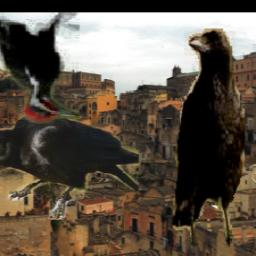Crow: (174, 29, 246, 247), (0, 111, 139, 221)
Woodpecker: (0, 12, 81, 128)
